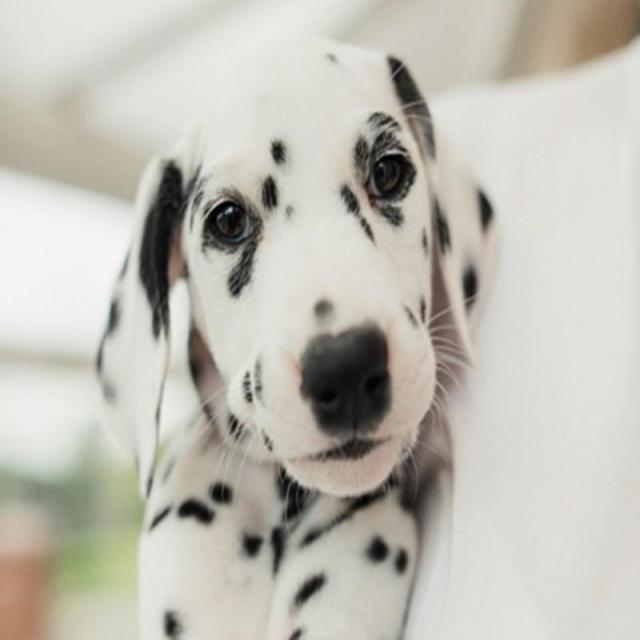Dog: (91, 23, 502, 518)
